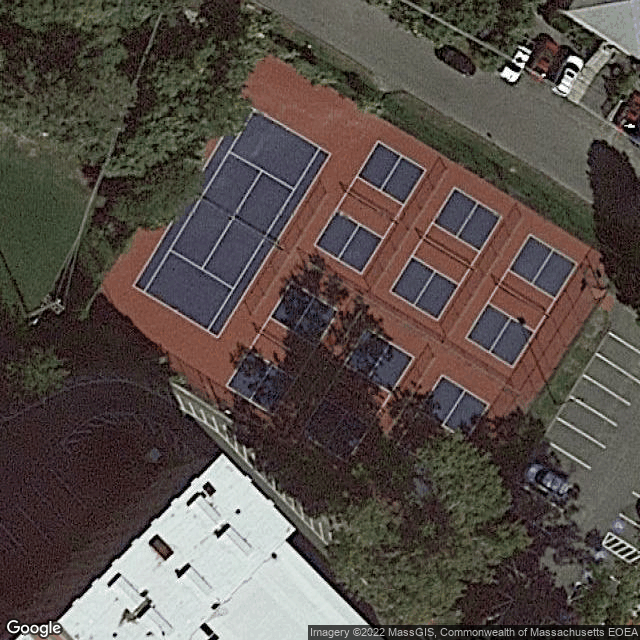Court: (128, 96, 332, 340)
